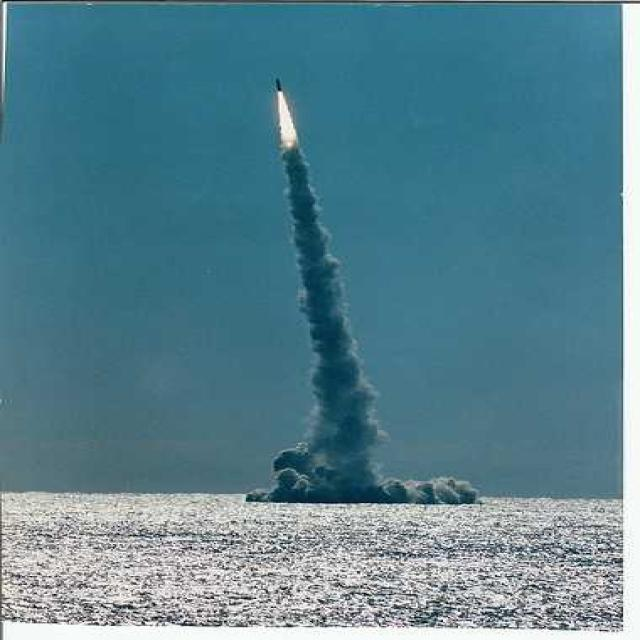missile: (270, 75, 286, 94)
